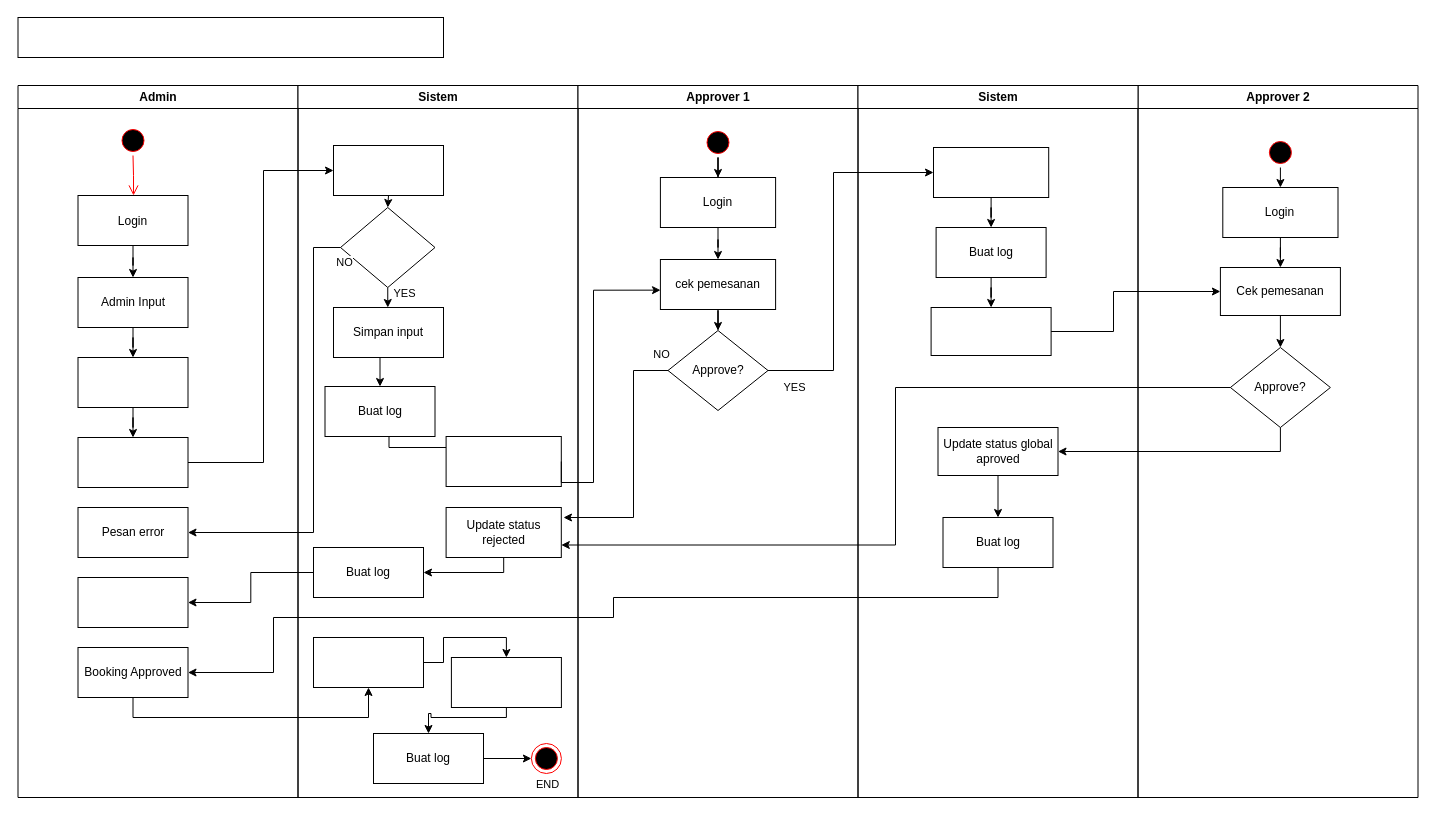
This 1435x815 diagram has some shape labels left out. The shapes that lost their labels are listed below. From the top down, each one's centre as x and y in pixels, then its label:
At (230,37): "Note: Flow diagram mungkin beda dengan jalannya aplikasi".
At (388,170): "Validasi input".
At (990,172): "Update status Approved level 1".
At (387,247): "input valid?".
At (990,331): "Lanjut ke Approver 2".
At (132,382): "Pilih Approver".
At (132,462): "Submit".
At (503,461): "Lanjut ke approver1".
At (132,602): "Booking rejected".
At (368,662): "Simpan Data Pemakaian".
At (505,682): "Update status".
